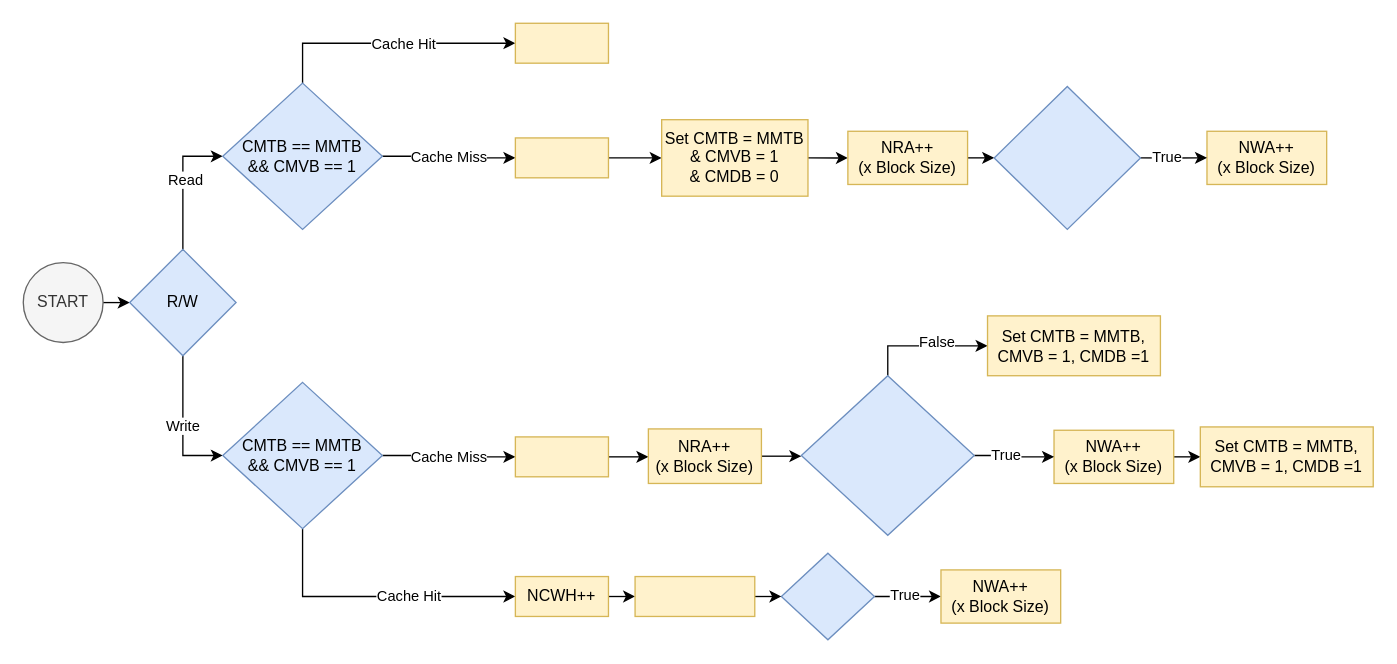
Image size: 1397x664. Some labels were removed from this diagram. Each missing label, with the box of its shape:
(WAWB && CMVB == 1 && CMDB == 1): (993, 85, 1140, 229)
NCRH++: (514, 22, 608, 63)
NCRM++: (514, 137, 608, 178)
NCWM++: (514, 436, 608, 477)
Set CMDB = 1: (634, 575, 755, 616)
WAWT: (780, 552, 874, 640)
WAWT II (WAWB && CMVB == 1 && CMDB == 1): (800, 374, 974, 535)
